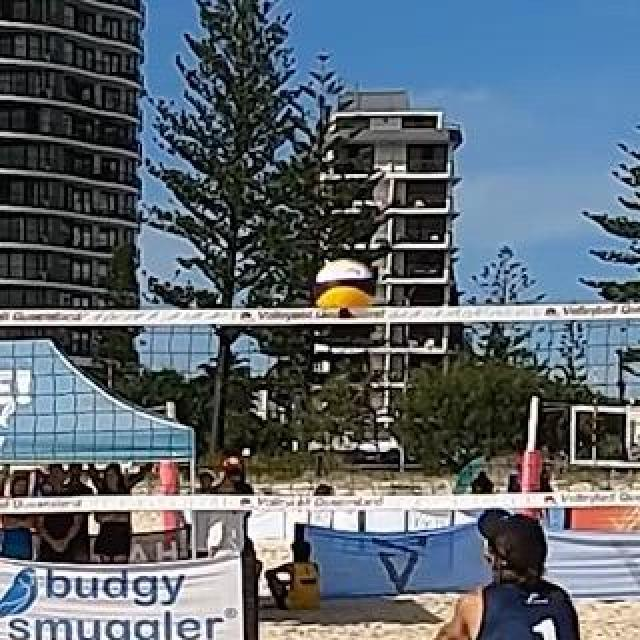volleyball: (316, 257, 376, 321)
